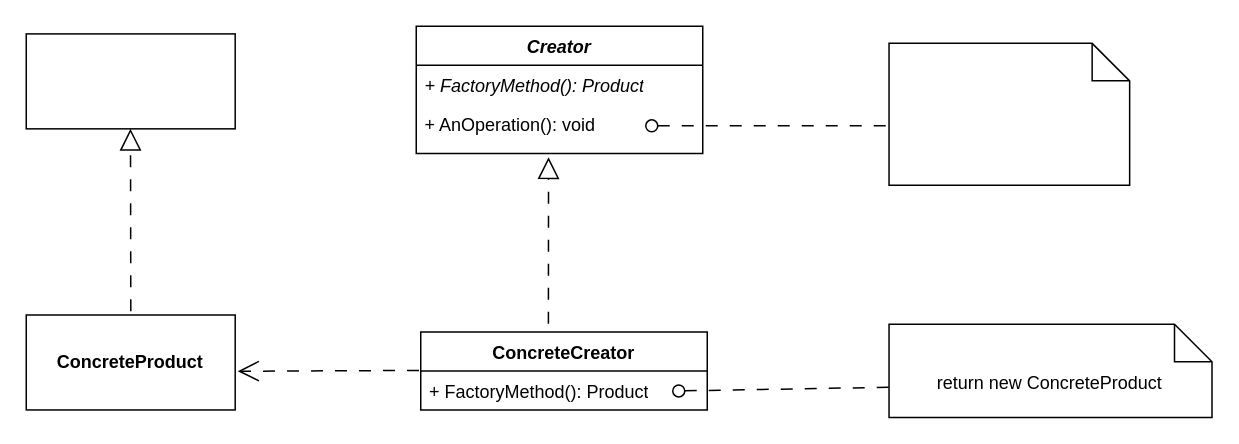
The diagram is 1239 pixels wide and 444 high, and some of its shapes have lost their labels. Here are the shapes that lost their labels. From the top down, the centre of each, then its label:
At point (130, 80): "<<interface>> Product".
At point (1009, 113): "... product = FactoryMethod() ...".
